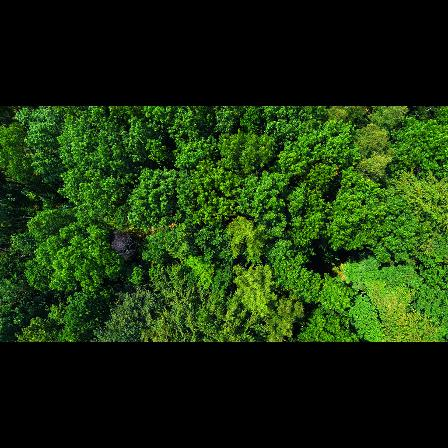Dead: (108, 231, 144, 263)
